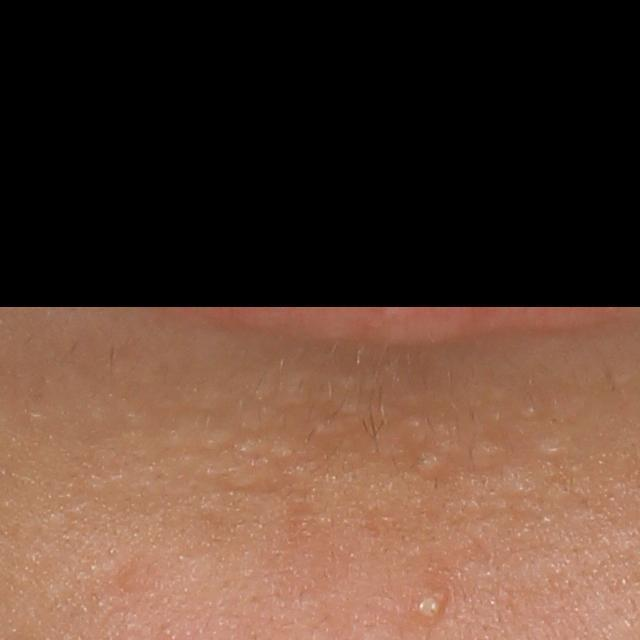hypertrophic_scar: (230, 433, 292, 468), (409, 451, 447, 478), (467, 439, 508, 463), (540, 441, 570, 460), (520, 401, 543, 424)
pustule: (401, 581, 455, 631)
